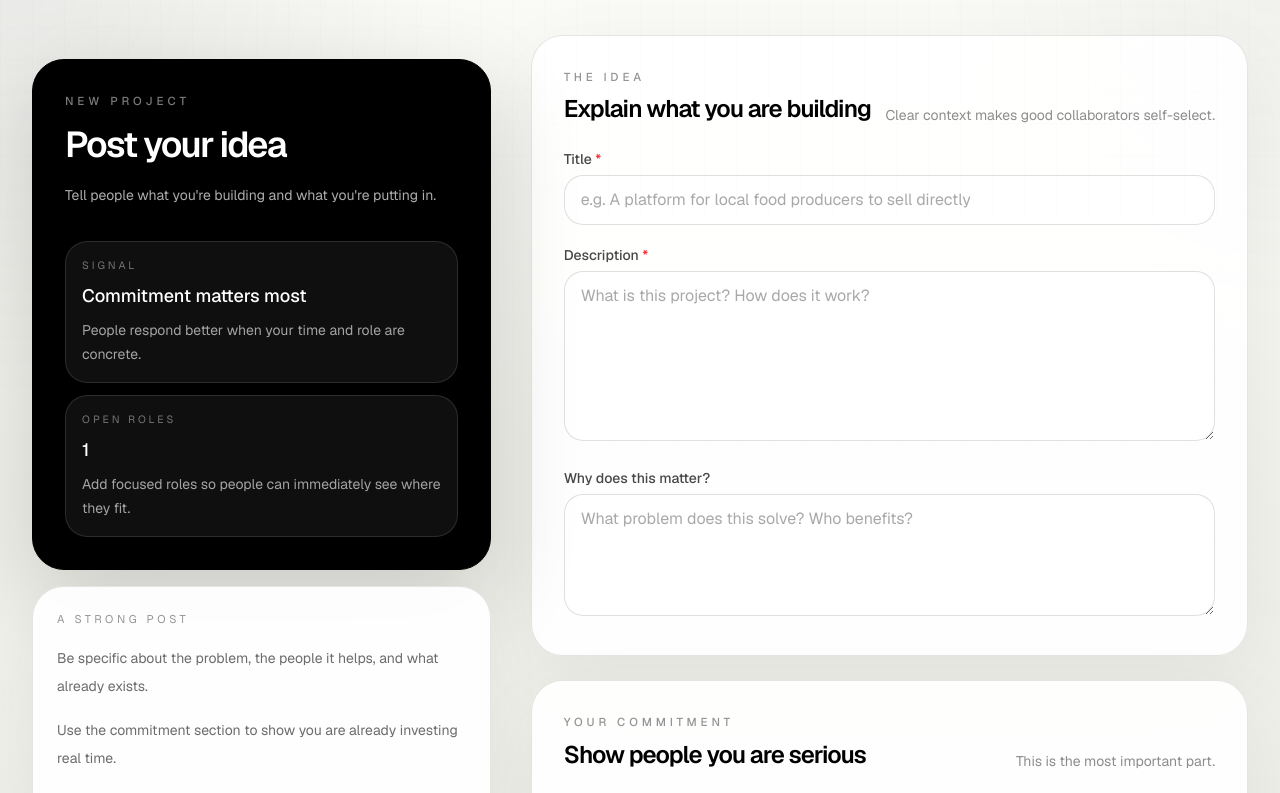
Test case: ProjectForm validation › shows error when description is too short
Step 1. Type "Valid title here" into the field with placeholder "e.g. A platform for local food producers to sell directly" → (889, 200), box [564,175,1215,225]
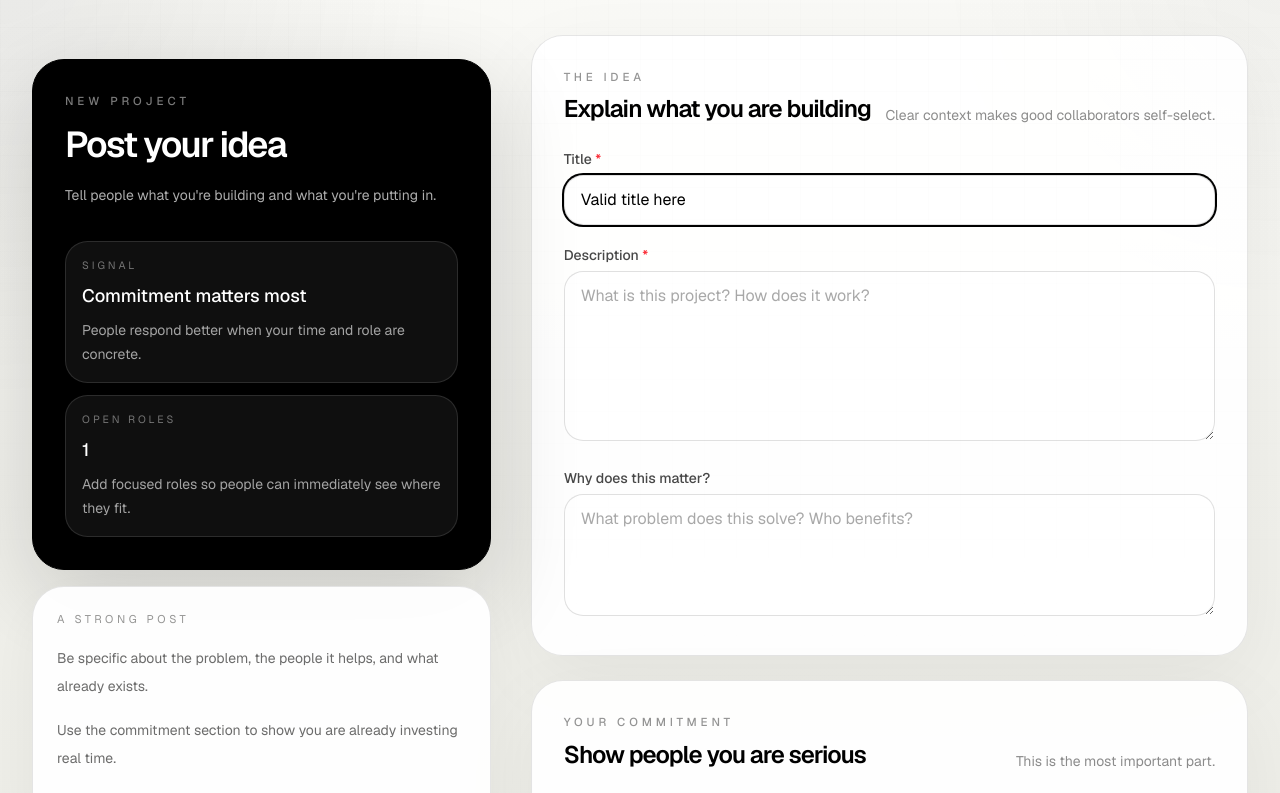
Step 2. Type "Too short" into the text box with placeholder "What is this project? How does it work?" → (889, 356), box [564,271,1215,441]
(page scrolled)
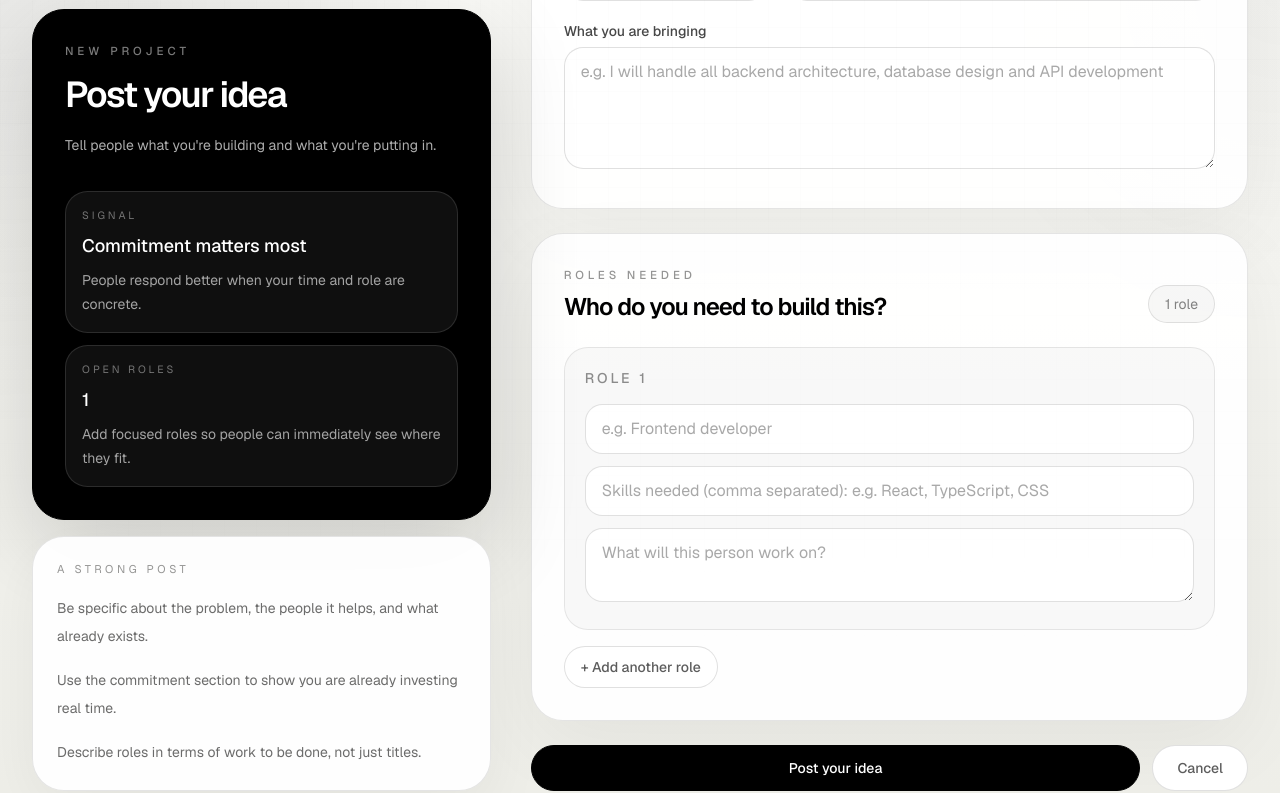
Step 3. Submit the form from the button "Post your idea", box [531,745,1140,791]
(page scrolled)
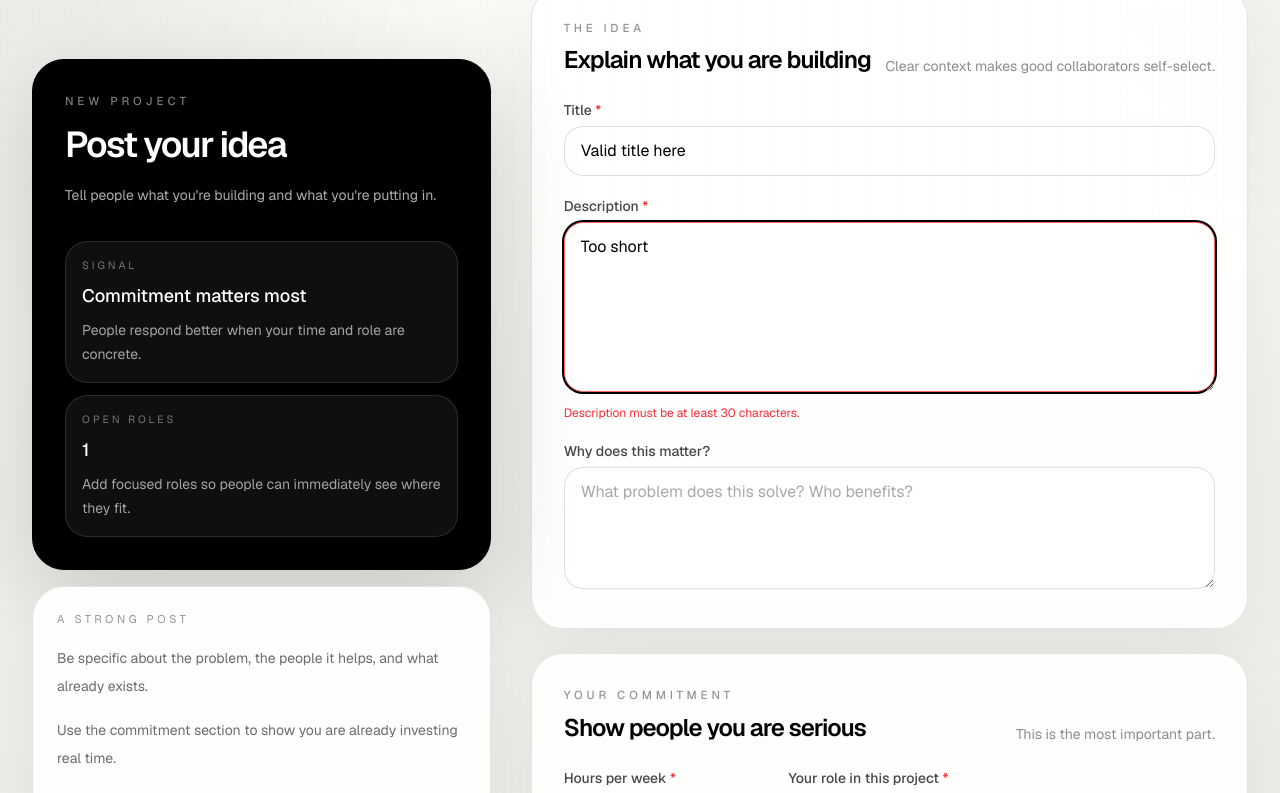
Result: the text "Description must be at least 30 characters." is shown at [564,405,799,421]
